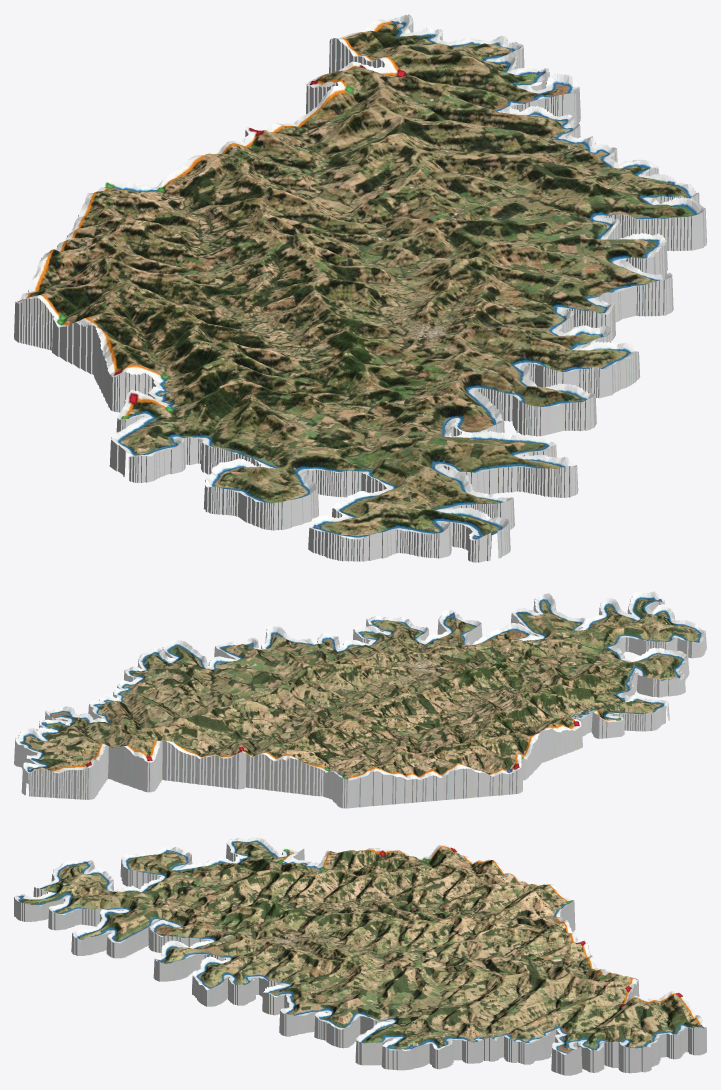
3 renders of one model, top to bottom at view 1: azimuth 30°, elevation 25°; view 2: azimuth 150°, elevation 25°; view 3: azimuth 270°, elevation 25°, orthographic. The views are drawn at different scales.
Size of the model in its own units: 1 by 0.084 by 1.32.
1 material, 1 textured.
